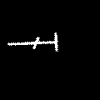double_crochet: (8, 33, 57, 50)
